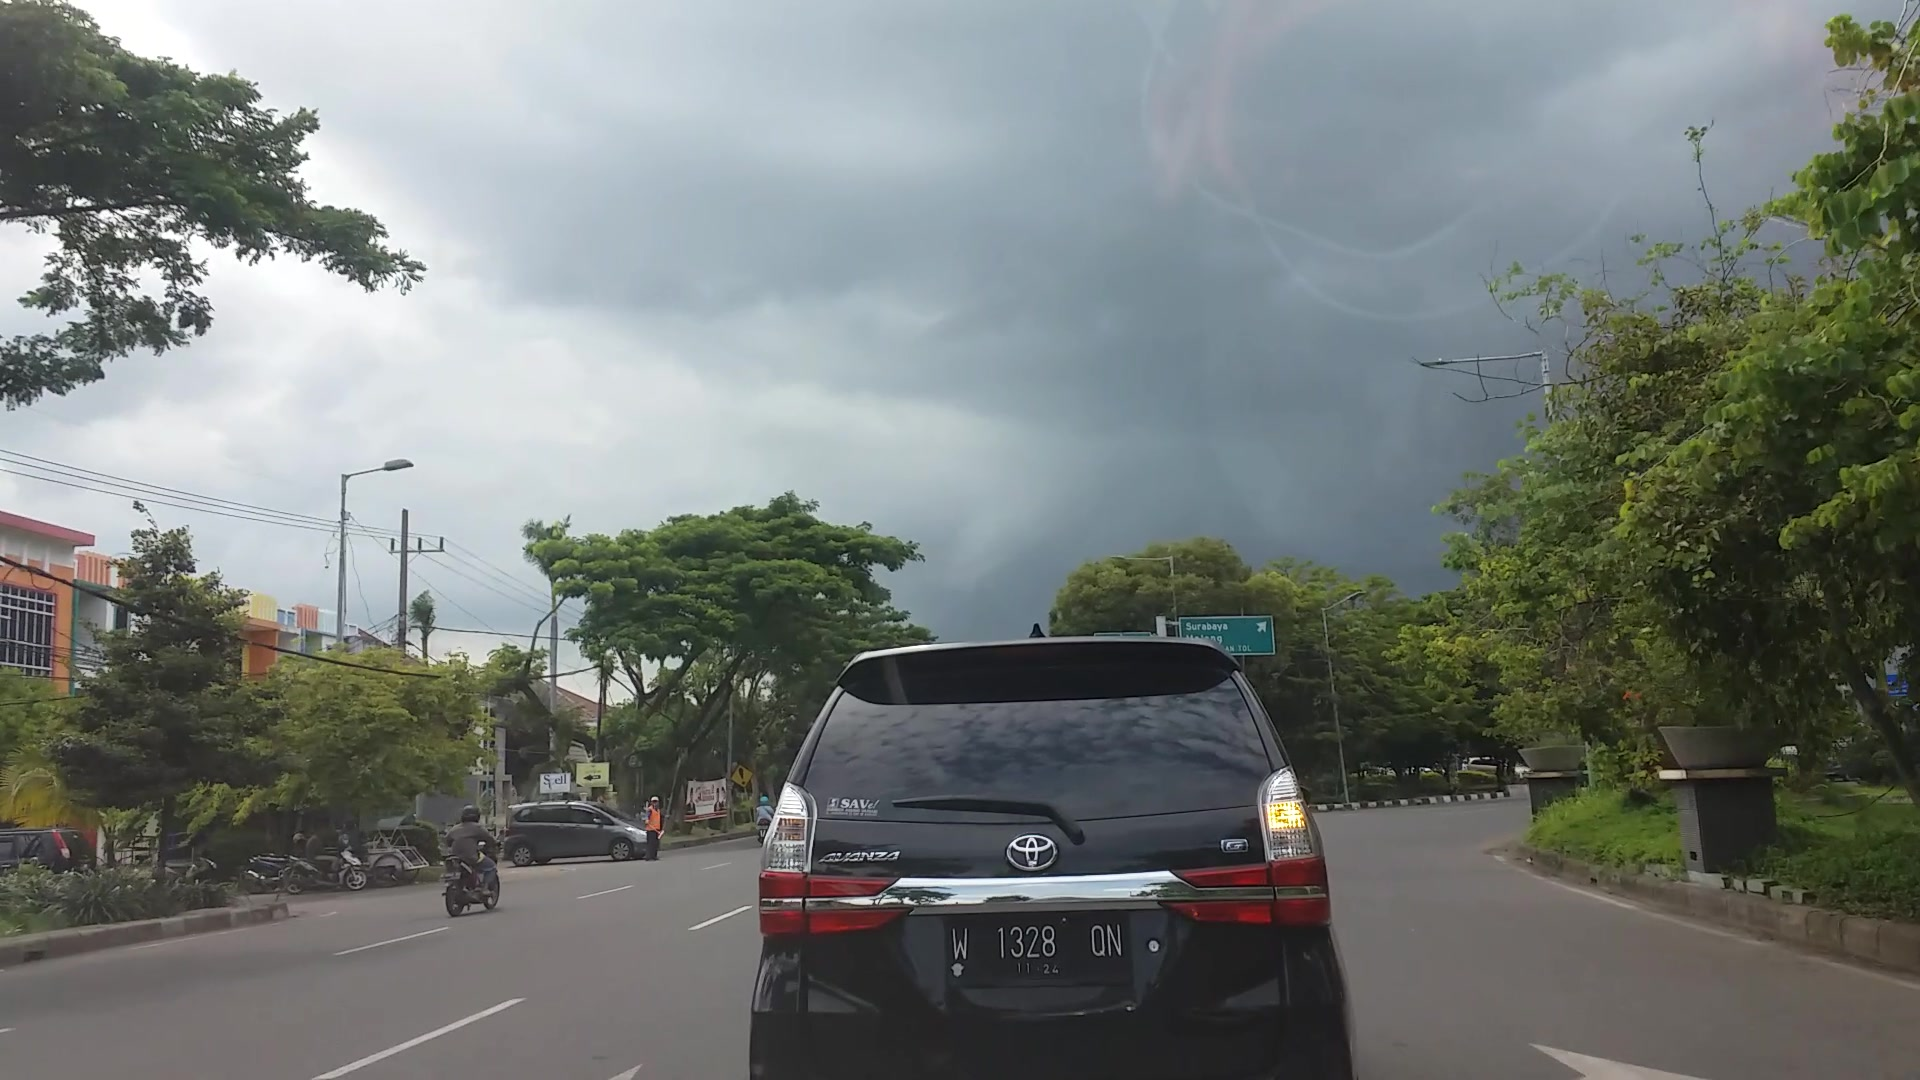plate_positive: (949, 913, 1133, 986)
